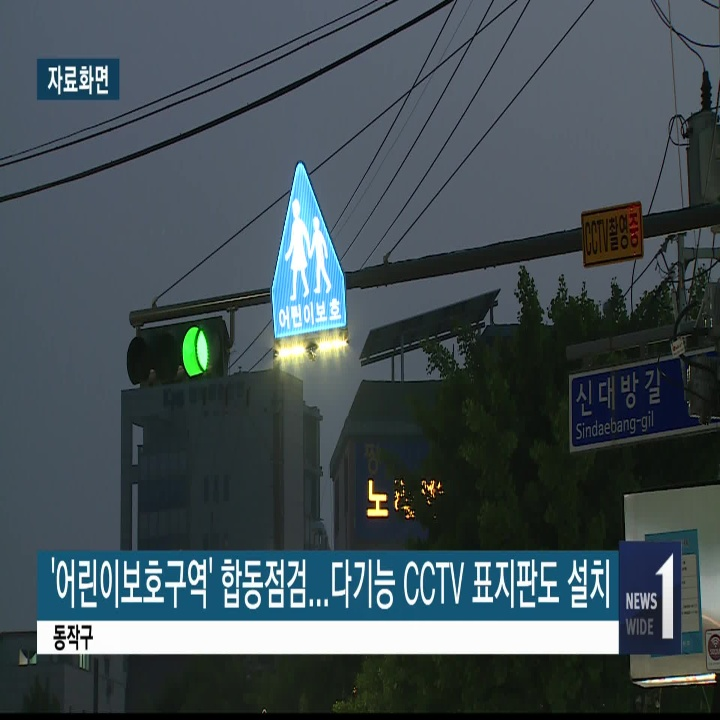child: (279, 195, 338, 301)
